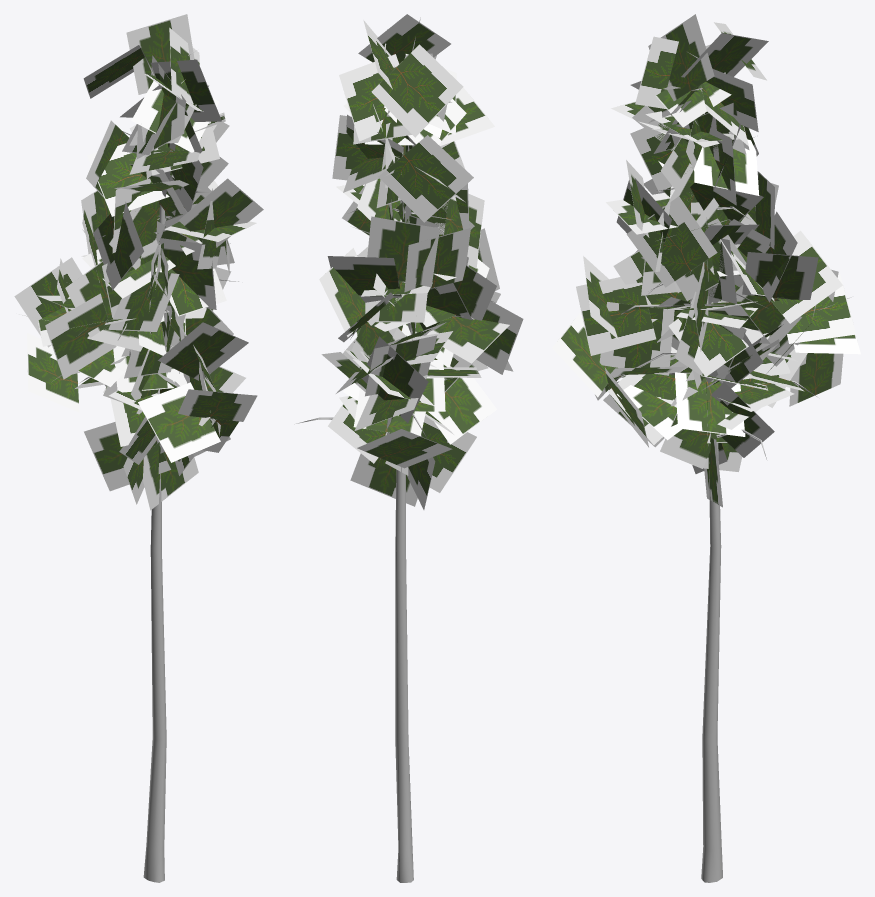
The model's file is TallSpruceReduced_2.fbx.
3 renders of one model, left to right at view 1: azimuth 30°, elevation 25°; view 2: azimuth 150°, elevation 25°; view 3: azimuth 270°, elevation 25°, orthographic.
Parts seen in each view (by area): view 1: Tall_Spruce_Reduced_LOD0; view 2: Tall_Spruce_Reduced_LOD0; view 3: Tall_Spruce_Reduced_LOD0.
Part boxes in pixels (bbox=[...]): Tall_Spruce_Reduced_LOD0: bbox=[14, 14, 263, 882]; Tall_Spruce_Reduced_LOD0: bbox=[294, 14, 523, 882]; Tall_Spruce_Reduced_LOD0: bbox=[552, 14, 860, 882].
Size of what is drawn, in the model's own units: 860 by 3535 by 1140.
